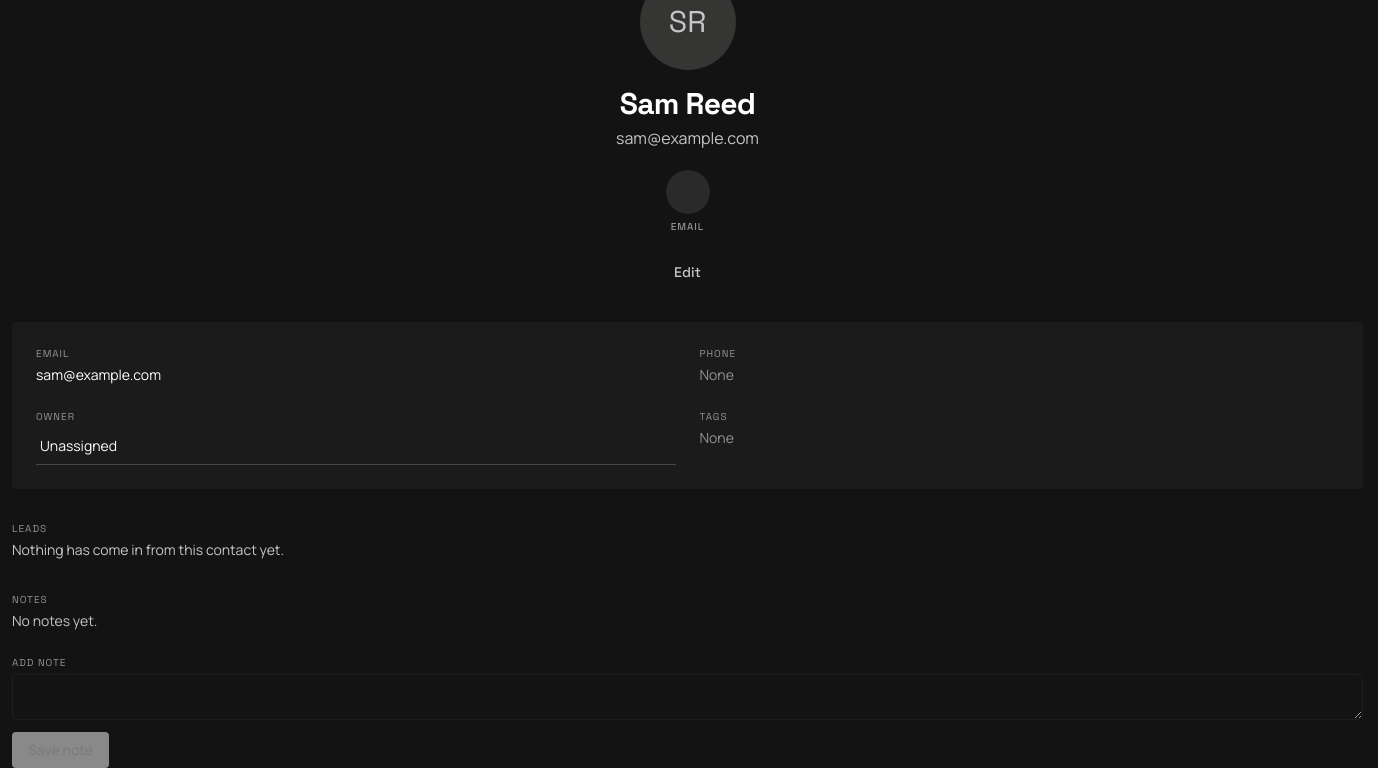
Scenario: ContactDetail › keeps the note button inert until something is typed
The width and height of the screenshot is (1378, 768).
(page scrolled)
Expected: the button "Save note" is disabled, x1=12 y1=732 x2=109 y2=767
In the text box labelled "Add note": point(688, 697) x1=12 y1=674 x2=1363 y2=720, type "Called back"
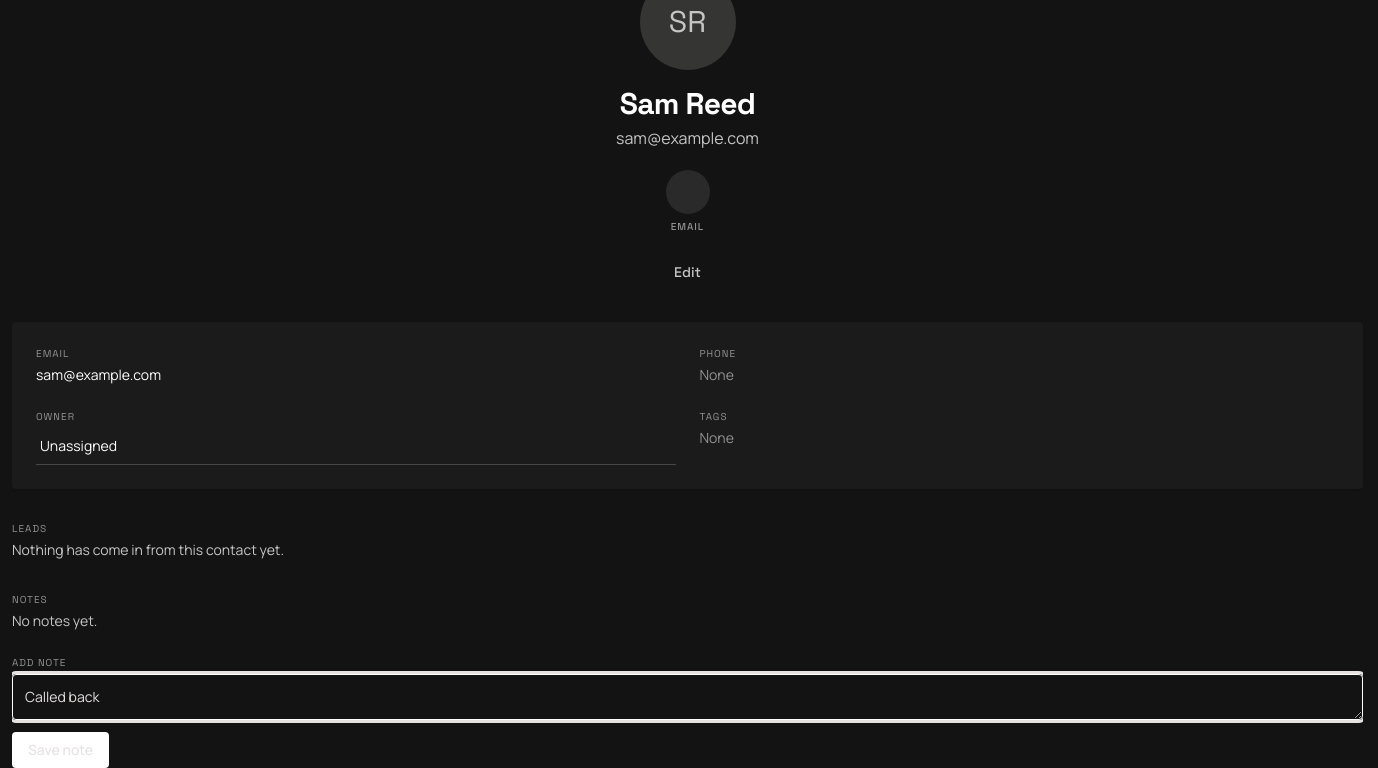
Expected: the button "Save note" is enabled, x1=12 y1=732 x2=109 y2=767
